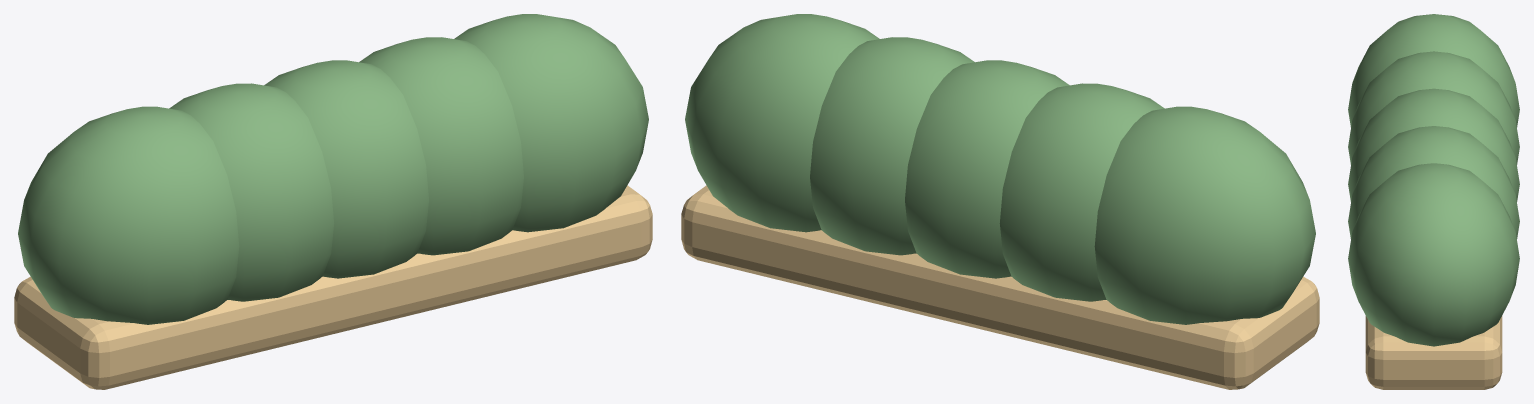
The model's file is hedge_obstacle.glb.
The picture shows the model from 3 angles, left to right: view 1: azimuth 30°, elevation 25°; view 2: azimuth 150°, elevation 25°; view 3: azimuth 270°, elevation 25°; orthographic projection. The views are drawn at different scales.
Parts seen in each view (by area): view 1: hedge_obstacle_Mesh; view 2: hedge_obstacle_Mesh; view 3: hedge_obstacle_Mesh.
Boxes of the visible parts, x1,y1,x2,y2 form: hedge_obstacle_Mesh: [14, 14, 652, 389]; hedge_obstacle_Mesh: [681, 14, 1319, 389]; hedge_obstacle_Mesh: [1348, 14, 1519, 389].
Size of the model in its own units: 2.56 by 0.93 by 0.78.
